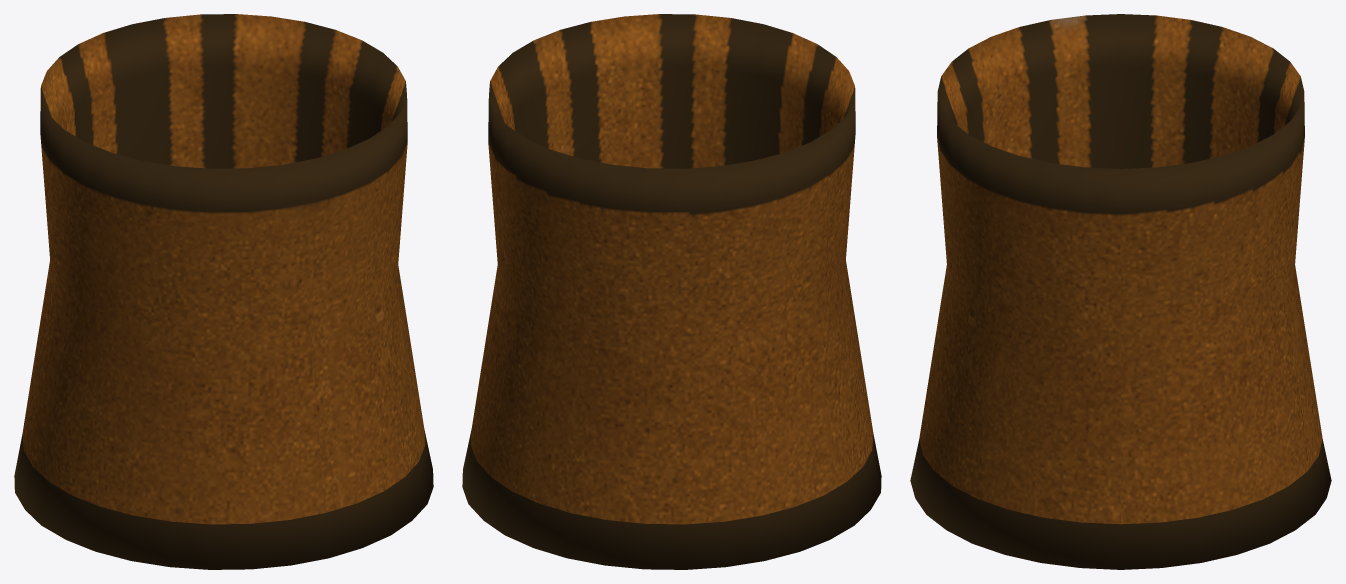
Rendered from ceramicJug2.fbx.
The picture shows the model from 3 angles, left to right: view 1: azimuth 30°, elevation 25°; view 2: azimuth 150°, elevation 25°; view 3: azimuth 270°, elevation 25°; orthographic projection.
Parts seen in each view (by area): view 1: Jug.001; view 2: Jug.001; view 3: Jug.001.
Boxes of the visible parts, <box> form: Jug.001: <box>14,14,433,569</box>; Jug.001: <box>462,14,881,569</box>; Jug.001: <box>910,14,1331,569</box>.
Bounding box in the file's own units: 57.97 × 63.13 × 57.91.
